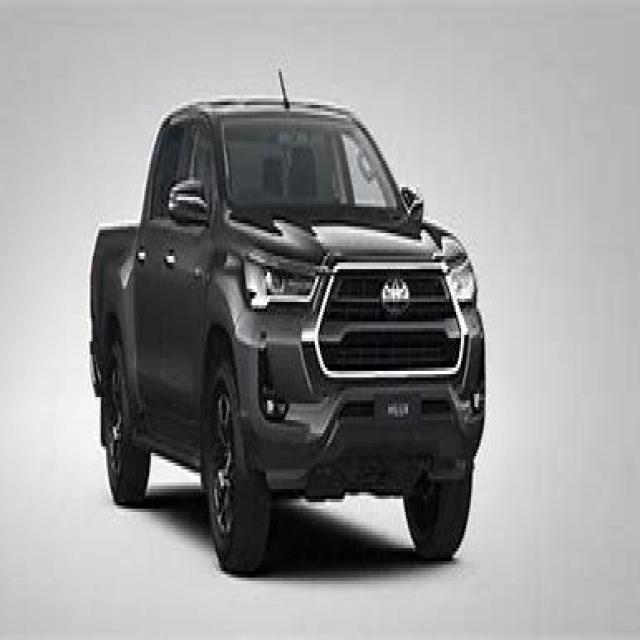light_vehicle: (61, 89, 519, 597)
